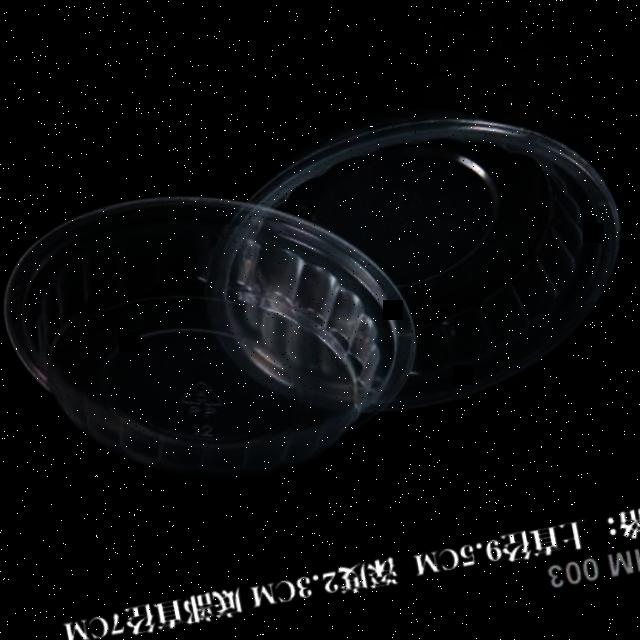plastic_box: (175, 75, 640, 445), (0, 146, 436, 513)
